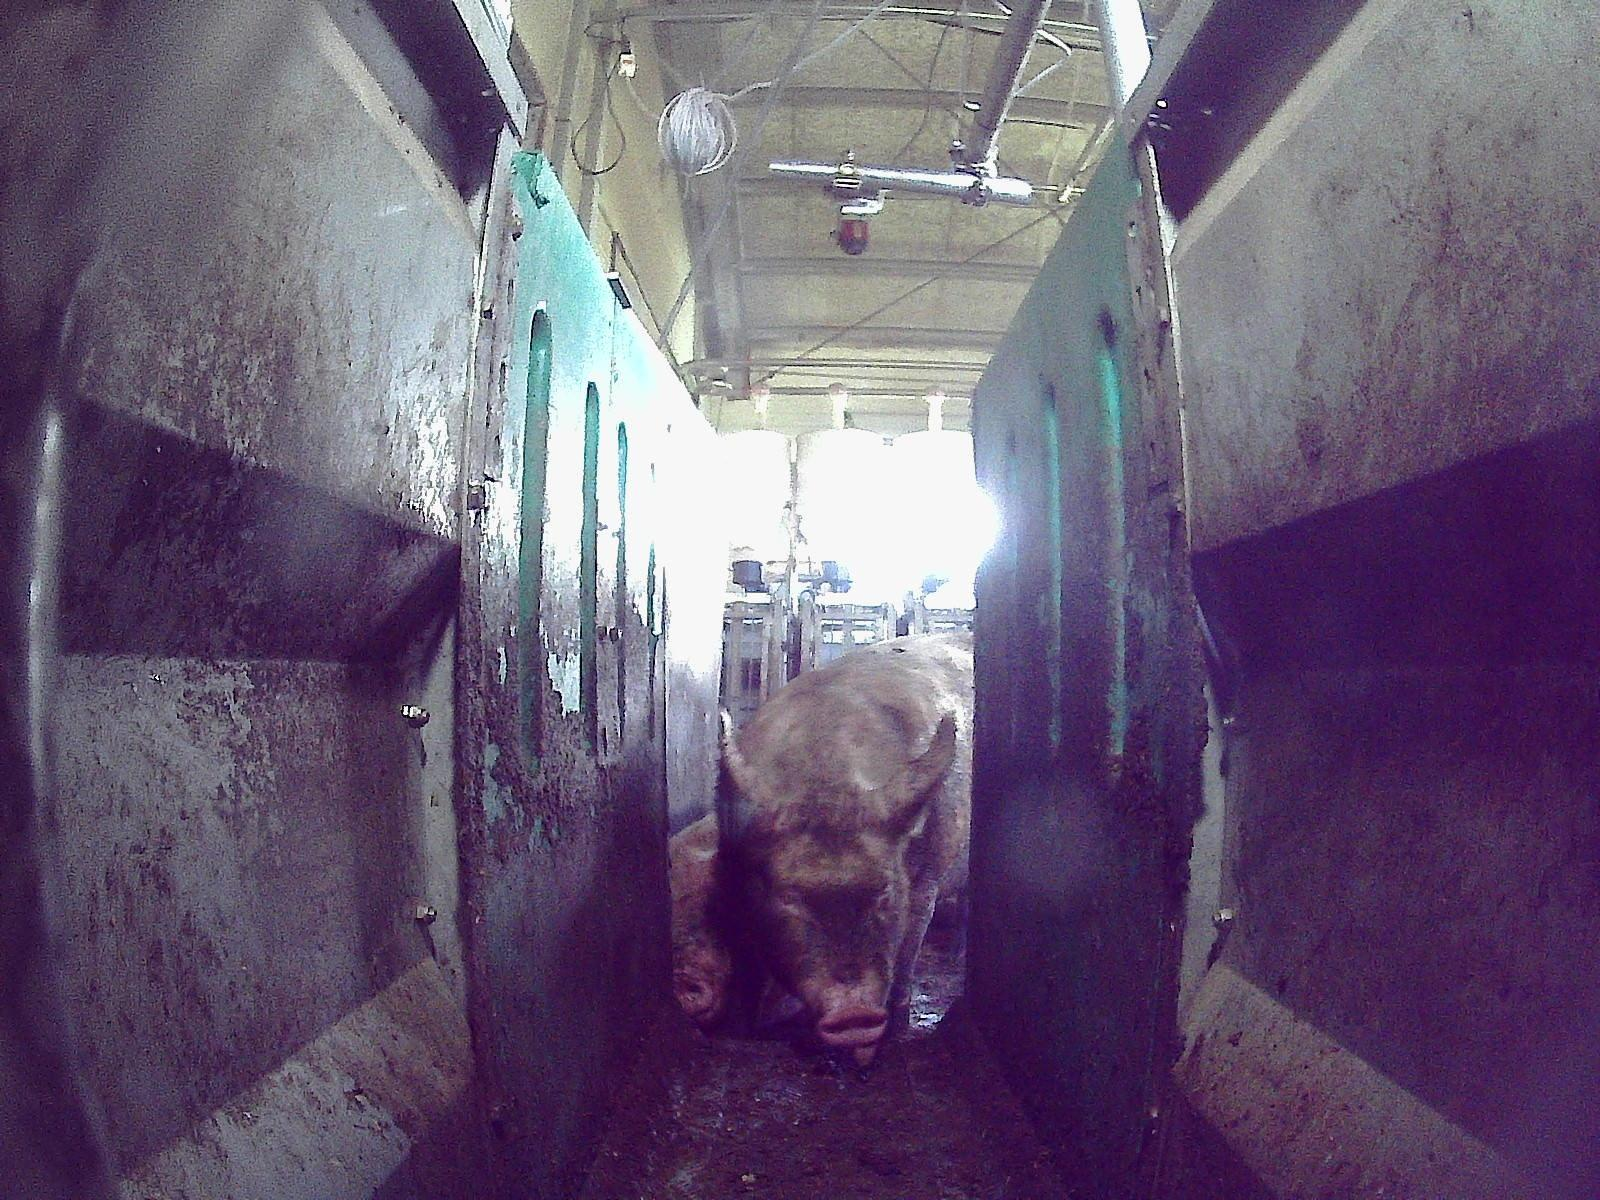Face: (747, 771, 913, 1044)
